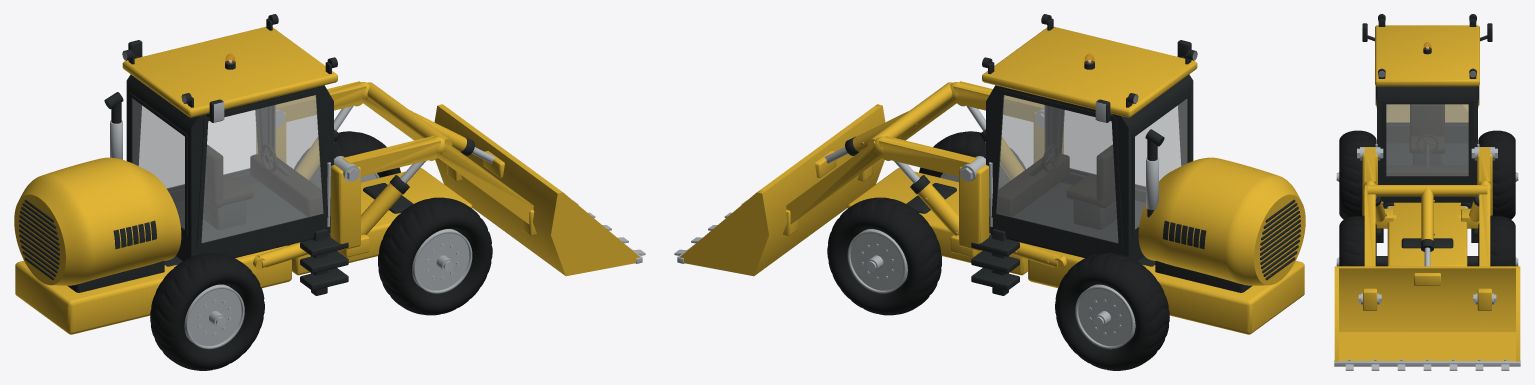
File: loader.glb
3 views of the same model, side by side, from view 1: azimuth 30°, elevation 25°; view 2: azimuth 150°, elevation 25°; view 3: azimuth 270°, elevation 25° (orthographic). The views are drawn at different scales.
Parts seen in each view (by area): view 1: Sculpted closed engine hood, Loader cab -1 side glass finite glazing, Seated shaped protective cab roof, Finite structural cab with actual four-side glazing aperture, Loader axle 0 right wheel rounded tyre carcass, Loader axle 1 right wheel rounded tyre carcass, Rear articulated power frame, Front loader bucket curved finite floor and back, Loader cab 1 side glass finite glazing, Front loader bucket closed side cheek -1, Loader swept lift arm -1, Loader cab rear glass finite glazing (+24 smaller); view 2: Sculpted closed engine hood, Loader cab 1 side glass finite glazing, Seated shaped protective cab roof, Finite structural cab with actual four-side glazing aperture, Loader axle 0 left wheel rounded tyre carcass, Loader axle 1 left wheel rounded tyre carcass, Rear articulated power frame, Front loader bucket curved finite floor and back, Front loader bucket closed side cheek 1, Loader cab -1 side glass finite glazing, Loader swept lift arm 1, Loader cab front glass finite glazing (+25 smaller); view 3: Front loader bucket curved finite floor and back, Seated shaped protective cab roof, Loader cab front glass finite glazing, Finite structural cab with actual four-side glazing aperture, Front articulated axle frame, Loader axle 1 left wheel rounded tyre carcass, Loader axle 1 right wheel rounded tyre carcass, Loader axle 0 left wheel rounded tyre carcass, Loader axle 0 right wheel rounded tyre carcass, Loader swept lift arm 1, Loader swept lift arm -1, Loader arm transverse crossshaft (+23 smaller).
Boxes of the visible parts, left/top/right/bottom form: Sculpted closed engine hood: left=14, top=157, right=181, bottom=285; Loader cab -1 side glass finite glazing: left=202, top=95, right=323, bottom=242; Seated shaped protective cab roof: left=122, top=26, right=337, bottom=117; Finite structural cab with actual four-side glazing aperture: left=126, top=74, right=333, bottom=260; Loader axle 0 right wheel rounded tyre carcass: left=378, top=197, right=492, bottom=315; Loader axle 1 right wheel rounded tyre carcass: left=150, top=253, right=264, bottom=370; Rear articulated power frame: left=15, top=245, right=291, bottom=334; Front loader bucket curved finite floor and back: left=436, top=105, right=562, bottom=273; Loader cab 1 side glass finite glazing: left=139, top=106, right=257, bottom=188; Front loader bucket closed side cheek -1: left=548, top=190, right=639, bottom=276; Loader swept lift arm -1: left=342, top=136, right=533, bottom=224; Loader cab rear glass finite glazing: left=132, top=99, right=184, bottom=228; Sculpted closed engine hood: left=1138, top=157, right=1305, bottom=285; Loader cab 1 side glass finite glazing: left=996, top=95, right=1117, bottom=242; Seated shaped protective cab roof: left=982, top=26, right=1197, bottom=117; Finite structural cab with actual four-side glazing aperture: left=986, top=74, right=1193, bottom=260; Loader axle 0 left wheel rounded tyre carcass: left=827, top=197, right=941, bottom=315; Loader axle 1 left wheel rounded tyre carcass: left=1055, top=253, right=1169, bottom=370; Rear articulated power frame: left=1028, top=245, right=1304, bottom=334; Front loader bucket curved finite floor and back: left=755, top=105, right=883, bottom=274; Front loader bucket closed side cheek 1: left=680, top=190, right=771, bottom=276; Loader cab -1 side glass finite glazing: left=1062, top=106, right=1180, bottom=186; Loader swept lift arm 1: left=786, top=136, right=977, bottom=224; Loader cab front glass finite glazing: left=999, top=95, right=1044, bottom=188; Front loader bucket curved finite floor and back: left=1337, top=266, right=1517, bottom=360; Seated shaped protective cab roof: left=1375, top=25, right=1479, bottom=86; Loader cab front glass finite glazing: left=1386, top=104, right=1468, bottom=175; Finite structural cab with actual four-side glazing aperture: left=1377, top=86, right=1477, bottom=201; Front articulated axle frame: left=1387, top=202, right=1467, bottom=266; Loader axle 1 left wheel rounded tyre carcass: left=1478, top=130, right=1515, bottom=219; Loader axle 1 right wheel rounded tyre carcass: left=1339, top=130, right=1376, bottom=219; Loader axle 0 left wheel rounded tyre carcass: left=1478, top=216, right=1515, bottom=266; Loader axle 0 right wheel rounded tyre carcass: left=1339, top=216, right=1376, bottom=266; Loader swept lift arm 1: left=1479, top=147, right=1491, bottom=266; Loader swept lift arm -1: left=1363, top=147, right=1375, bottom=266; Loader arm transverse crossshaft: left=1367, top=185, right=1487, bottom=196.
Size of the model in its own units: 8.15 by 3.7 by 3.09.
11 materials, 11 textured.
